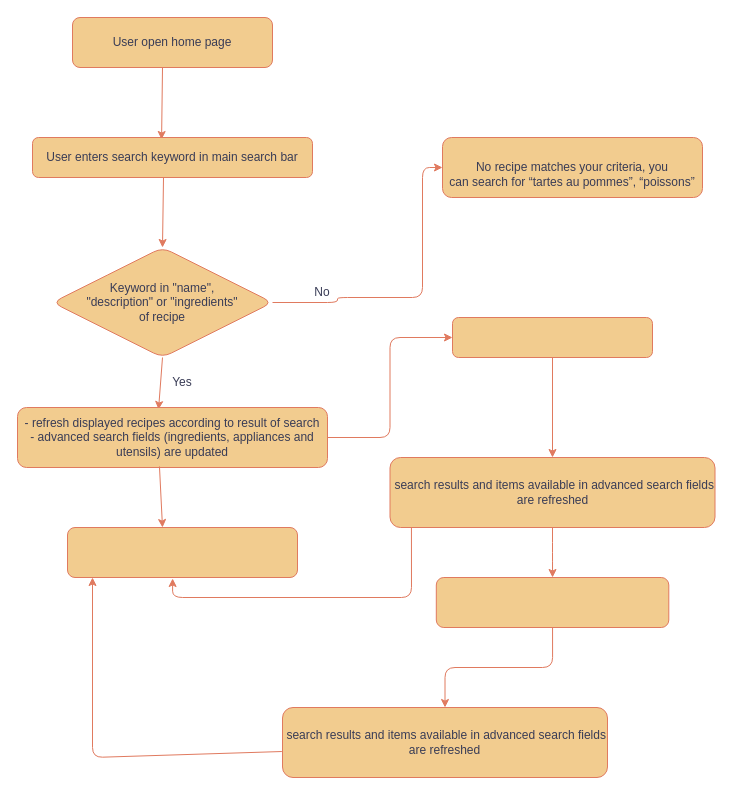
The diagram is 733 pixels wide and 795 high, and some of its shapes have lost their labels. Here are the shapes that lost their labels. From the top down, the box of each, then its label:
(452, 316, 652, 358): User select tag advanced search
(66, 526, 298, 578): User selects a recipe
(435, 576, 669, 628): User use other tag advanced search
